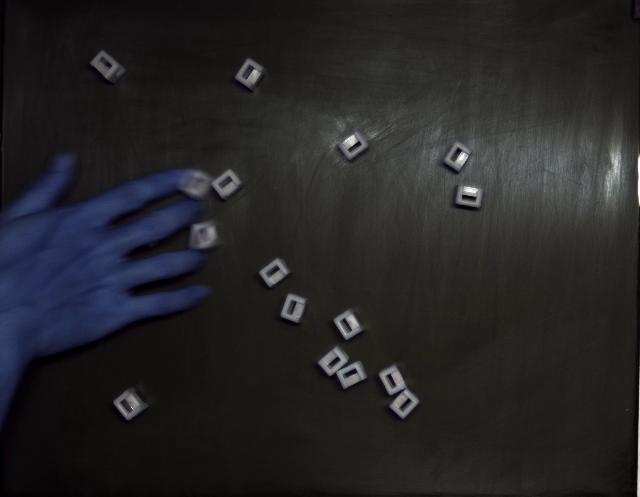fourth_side: (90, 50, 126, 84), (114, 389, 149, 421), (211, 169, 245, 200), (235, 59, 266, 91), (318, 345, 349, 376), (334, 309, 364, 340), (259, 259, 291, 288), (336, 361, 368, 390), (389, 389, 419, 419), (338, 131, 369, 160), (444, 141, 472, 172), (379, 364, 406, 396), (280, 294, 308, 324), (455, 185, 484, 209)
